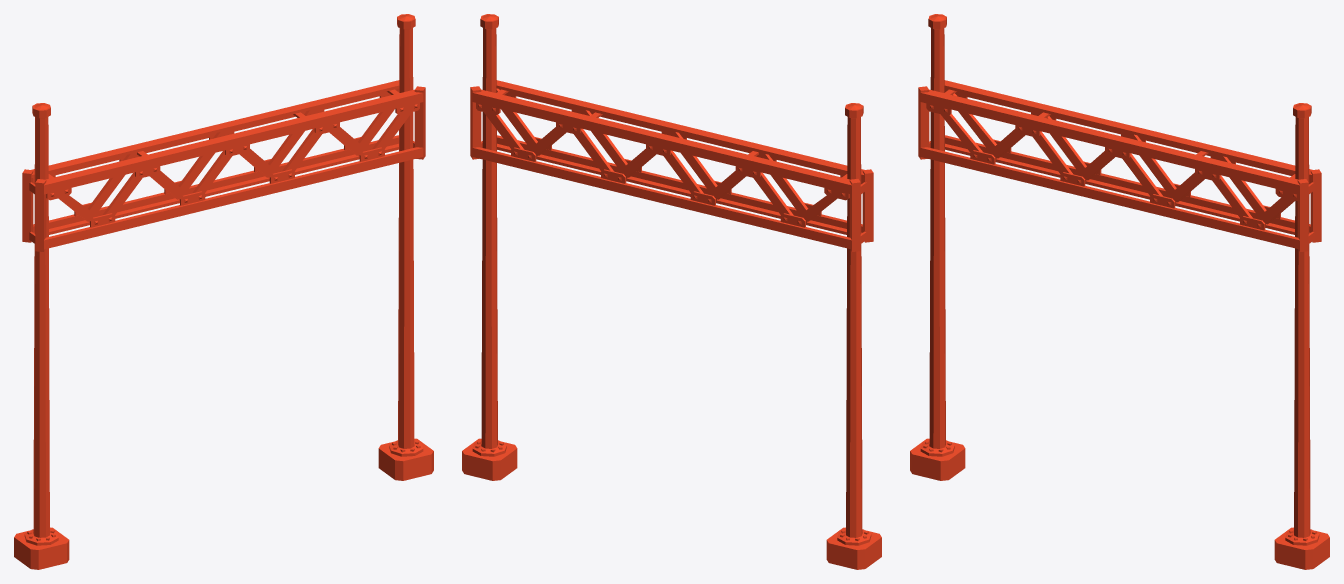
The model's file is SM_Sign_Gantry_Small_A_City.fbx.
3 views of the same model, side by side, from view 1: azimuth 30°, elevation 25°; view 2: azimuth 150°, elevation 25°; view 3: azimuth 330°, elevation 25° (orthographic).
Visible parts, largest first — view 1: SM_Sign_Gantry_Small_A_City; view 2: SM_Sign_Gantry_Small_A_City; view 3: SM_Sign_Gantry_Small_A_City.
Boxes of the visible parts, <box> form: SM_Sign_Gantry_Small_A_City: <box>14,14,433,569</box>; SM_Sign_Gantry_Small_A_City: <box>462,14,881,569</box>; SM_Sign_Gantry_Small_A_City: <box>910,14,1329,569</box>.
Size of the model in its own units: 8.85 by 9.5 by 0.8509.
